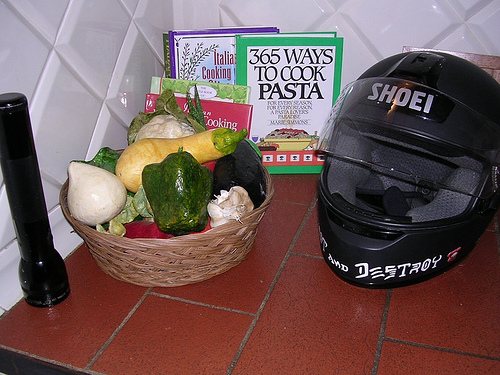helmet: (319, 55, 494, 277)
